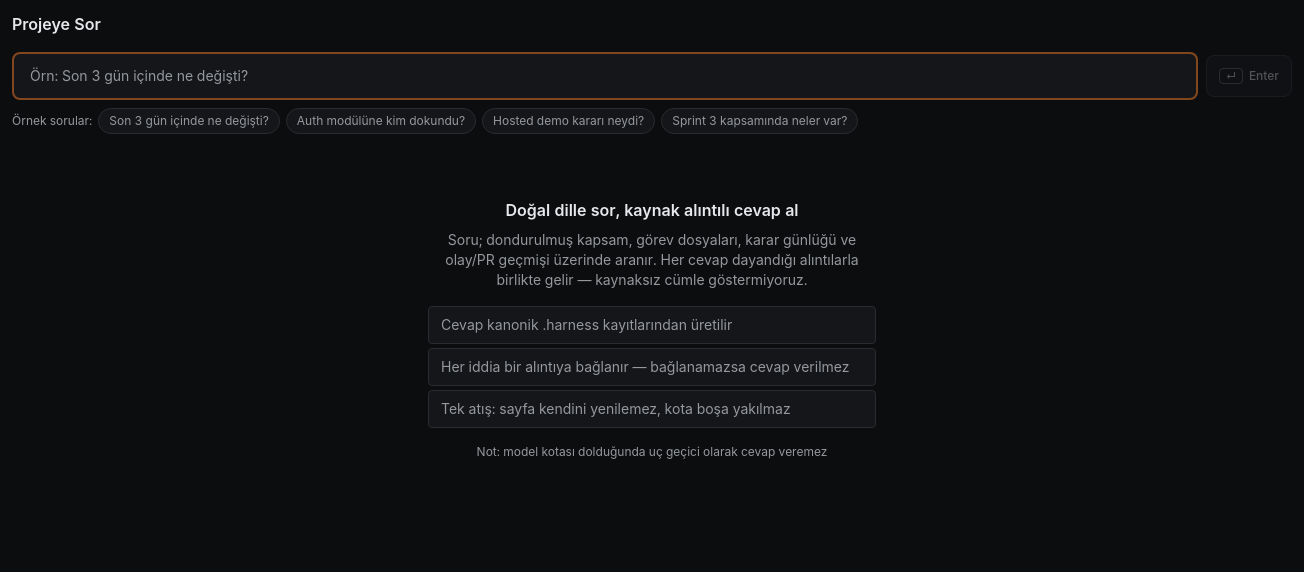
Scenario: AskPage — son sorular (bu tarayıcıda, localStorage) (#319) › geçmişteki bir soruya tıklayınca o soru YENİDEN sorulur
Type "Şu anki soru" into the field named "Projeye sorulacak soru". click: (605, 76)
box: [12,52,1198,100]
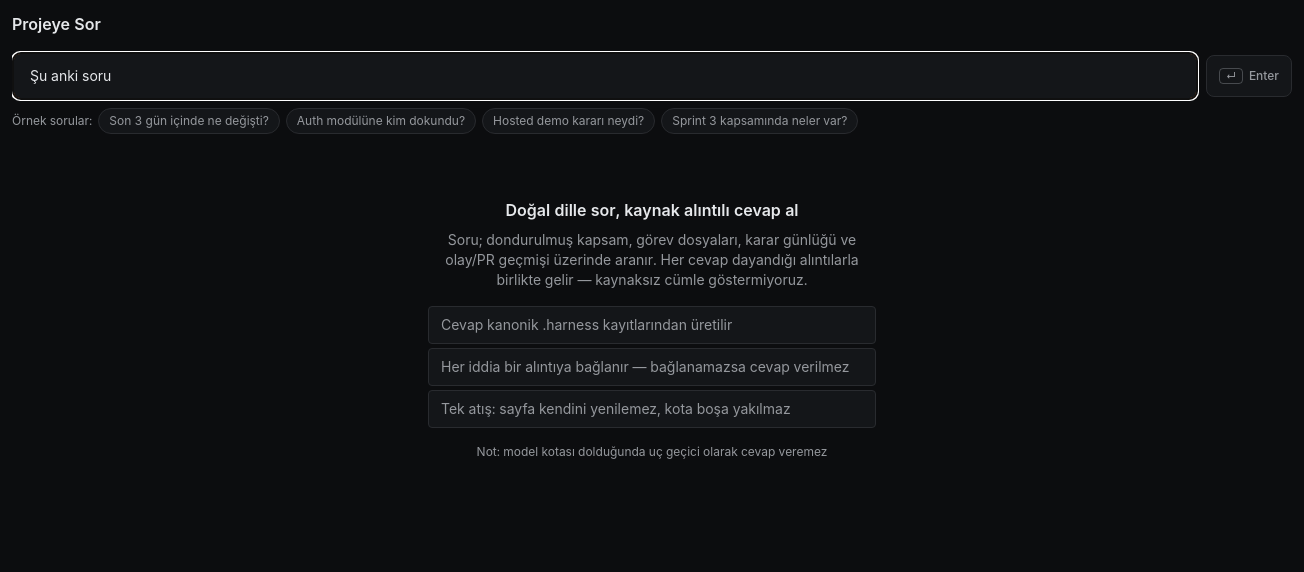
Click the button with aria-label "Soruyu gönder". click: (1249, 76)
box: [1206,55,1292,97]
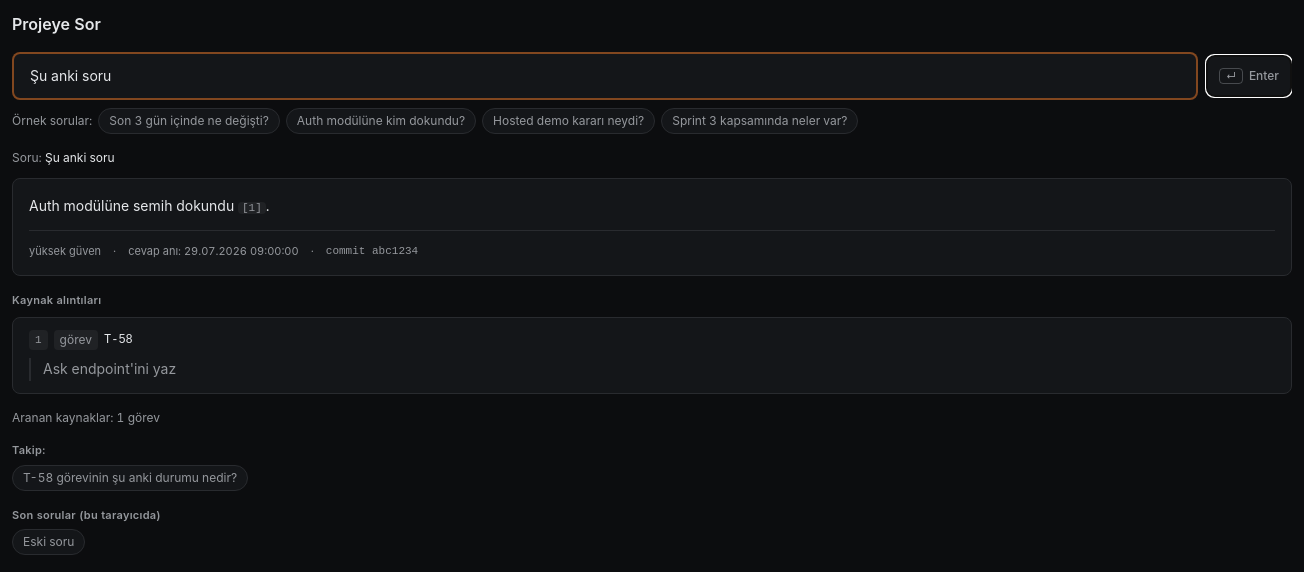
Click the button "Eski soru". click: (49, 542)
box: [12,529,85,555]
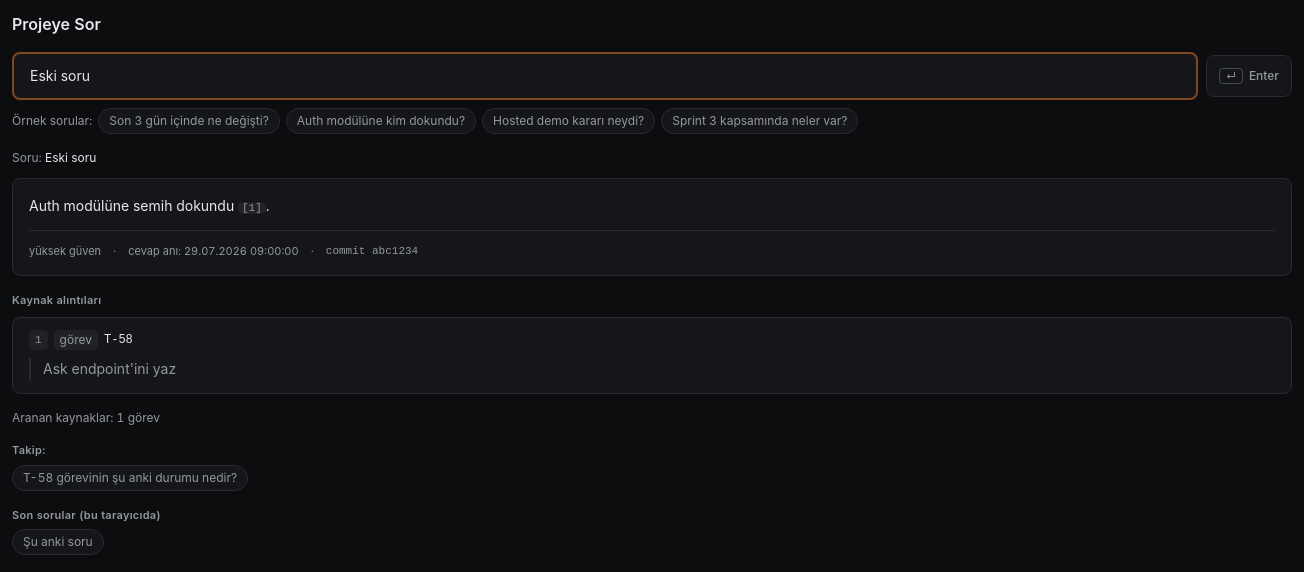
Expected: the text "Eski soru" is shown, [45,150,96,165]
